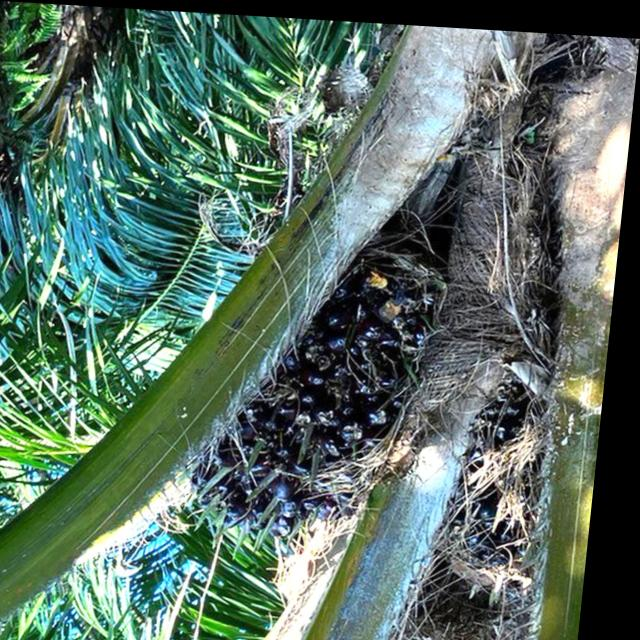almost: (178, 250, 434, 568)
